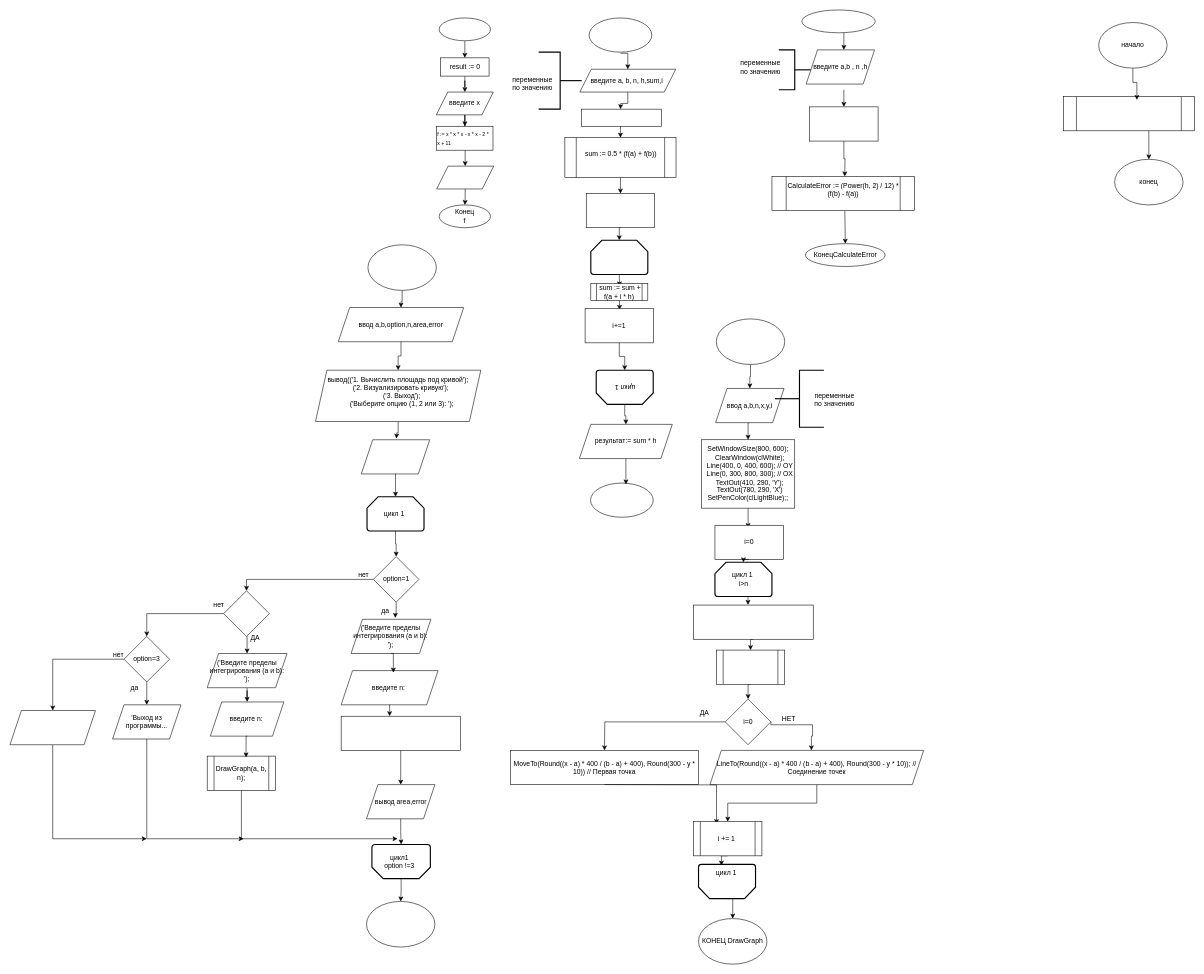
This 1204x974 diagram has some shape labels left out. Here are the shapes that lost their labels. From the top down, the centre of each, then its label:
(x=464, y=29): Начало f
(x=620, y=34): Начало CalculateArea
(x=838, y=21): Начало CalculateError
(x=621, y=117): h := (b - a) / n
(x=843, y=123): h := (b - a) / n;
(x=1128, y=113): Menu()
(x=465, y=177): вернуть result
(x=620, y=210): i := 1
(x=401, y=267): НАЧАЛО Menu
(x=619, y=257): Цикл1 to n - 1
(x=750, y=341): начало DrawGraph
(x=395, y=456): введите option
(x=621, y=500): Конец CalculateArea
(x=246, y=613): option=2
(x=753, y=621): x := a + (b - a) * i / n;
(x=750, y=667): y := f(x)
(x=52, y=727): неверный ввод. Попробуйте снова.
(x=400, y=733): area := CalculateArea(a, b, n); error := CalculateError(a, b, n);
(x=400, y=924): конец Menu
